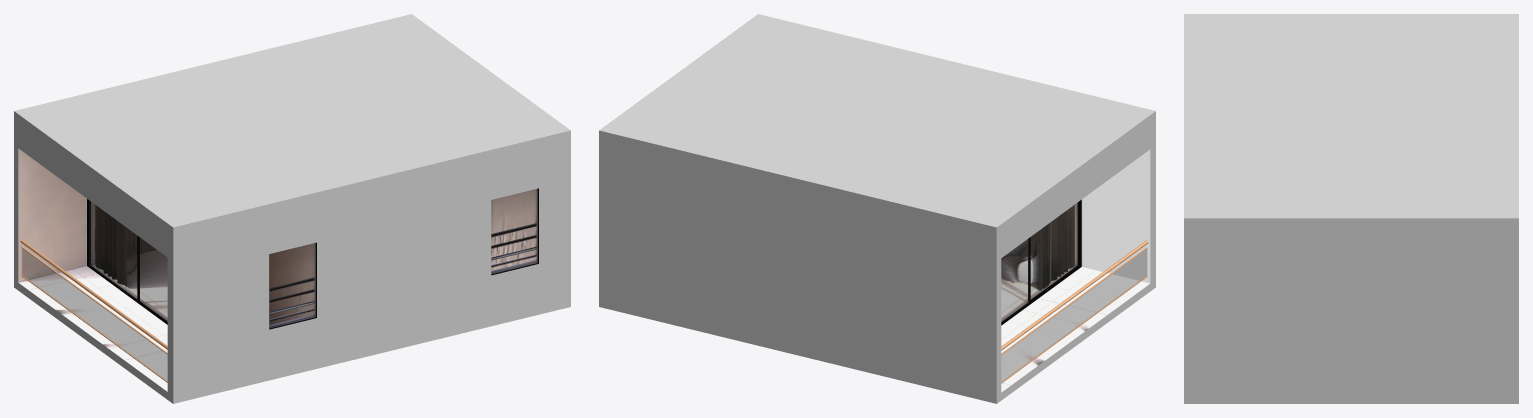
Rendered from bedroom1.glb.
3 views of the same model, side by side, from view 1: azimuth 30°, elevation 25°; view 2: azimuth 150°, elevation 25°; view 3: azimuth 270°, elevation 25° (orthographic). The views are drawn at different scales.
Visible parts, largest first — view 1: Object_37, Object_19, Object_24, Object_13, Object_32, Object_35, Object_23; view 2: Object_37, Object_19, Object_24, Object_13, Object_32, Object_4, Object_35; view 3: Object_37.
Boxes of the visible parts, x1,y1,x2,y2 form: Object_37: [14, 14, 570, 403]; Object_19: [18, 148, 537, 391]; Object_24: [22, 200, 167, 381]; Object_13: [95, 205, 126, 287]; Object_32: [20, 239, 167, 382]; Object_35: [87, 199, 167, 324]; Object_23: [269, 188, 538, 329]; Object_37: [599, 14, 1155, 403]; Object_19: [1001, 149, 1150, 392]; Object_24: [1001, 203, 1146, 381]; Object_13: [1039, 205, 1074, 290]; Object_32: [1001, 240, 1148, 383]; Object_4: [1001, 239, 1038, 283]; Object_35: [1001, 200, 1081, 325]; Object_37: [1184, 14, 1518, 403].
Size of the model in its own units: 7.81 by 3.31 by 5.41.
20 materials, 8 textured.
